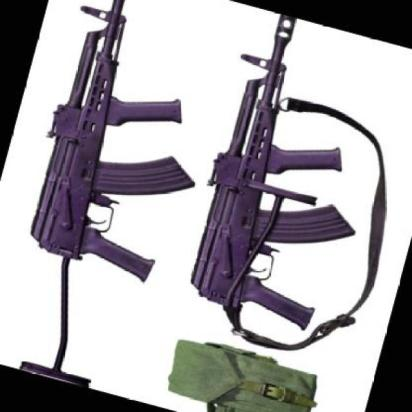Gun: (23, 0, 202, 386)
